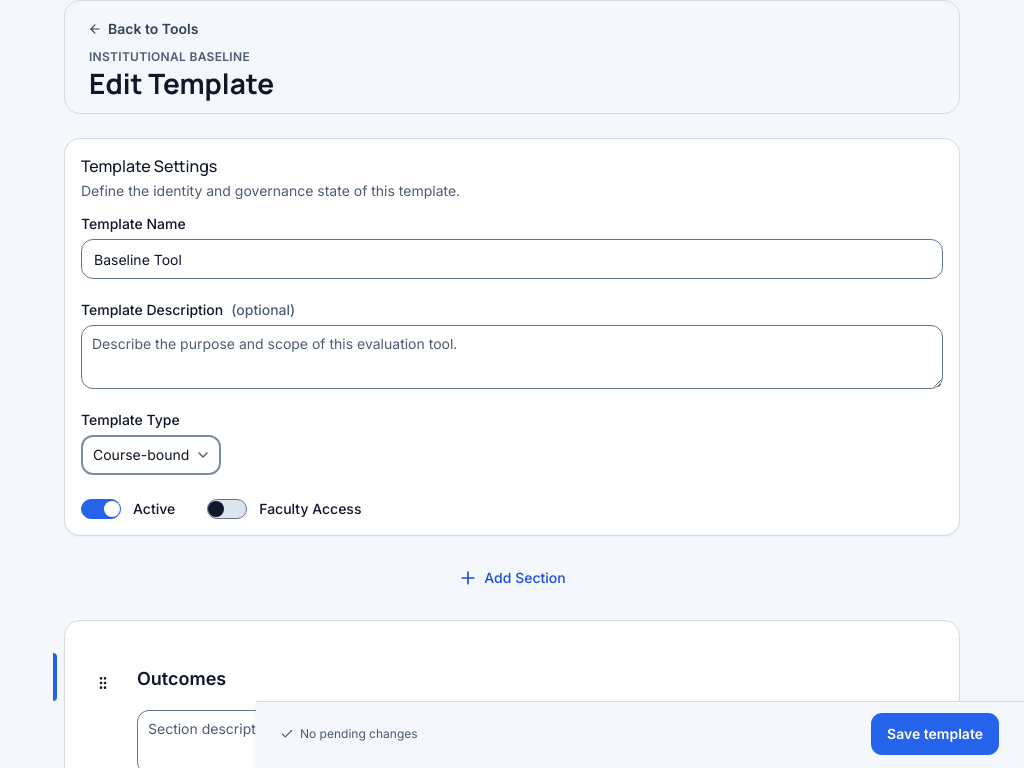
TemplateBuilder › tracks the Active toggle as unsaved work and persists it
This screenshot has width=1024, height=768.
Click the switch named "Active" next to "Active".
click(101, 509)  # box [81,499,121,519]
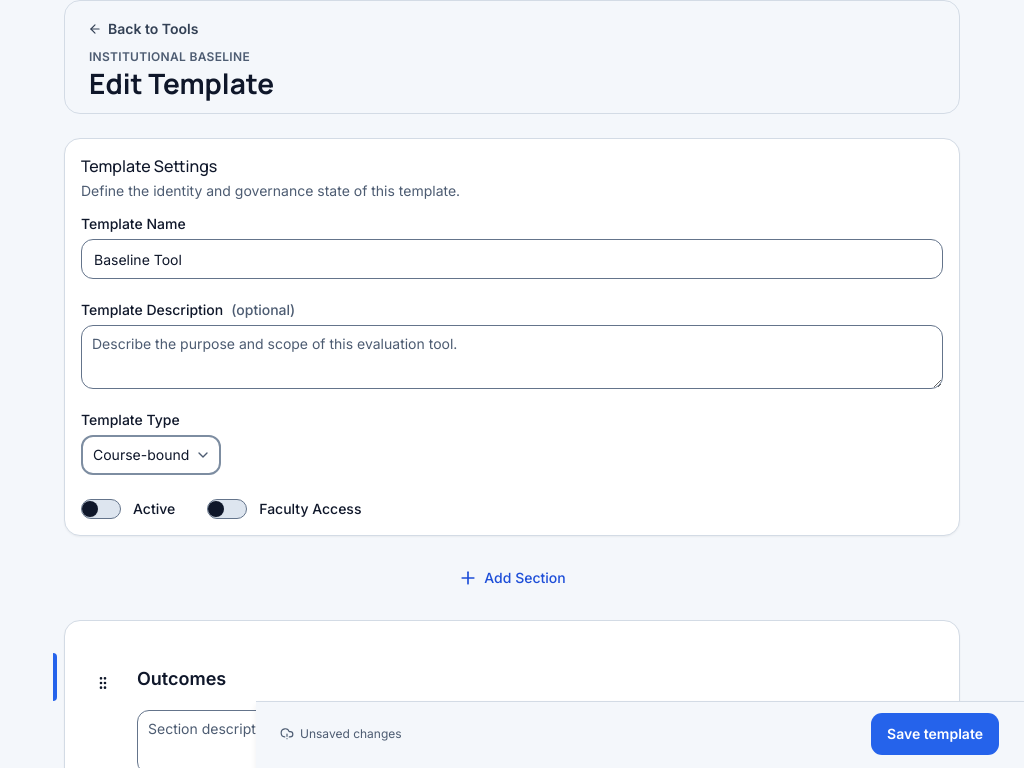
Now the message reads "Unsaved changes", box [300,726,402,741]
Click the button "Save template".
click(935, 734)  # box [870,712,1000,756]
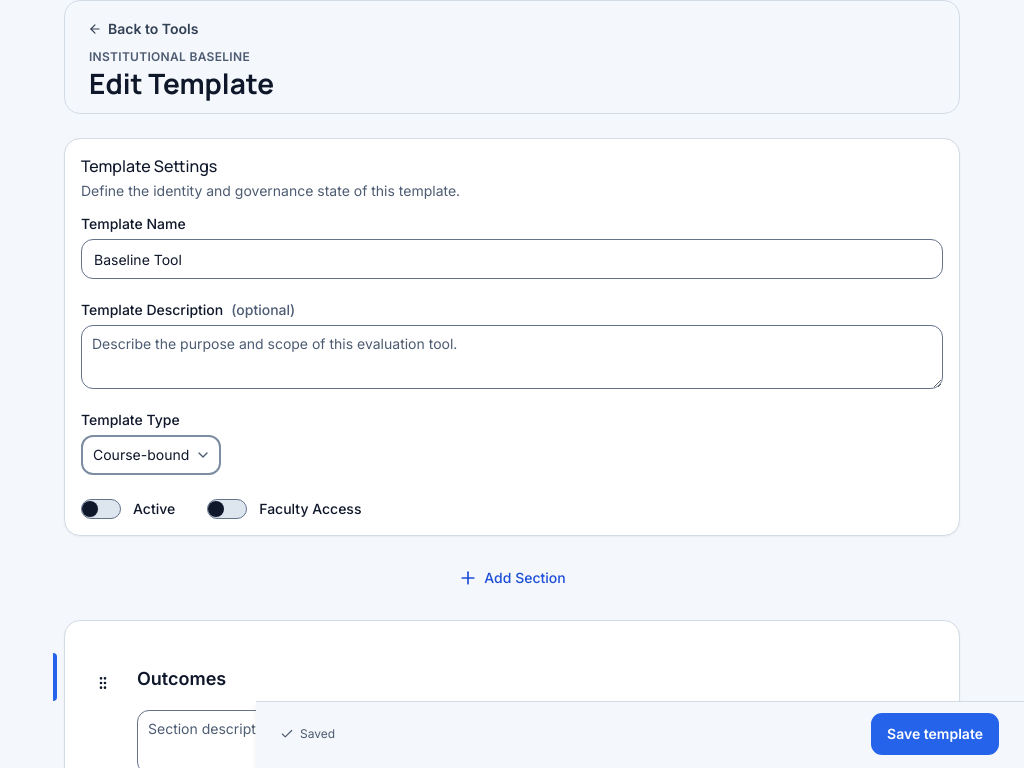
Now the message reads "Saved", box [300,726,335,741]
